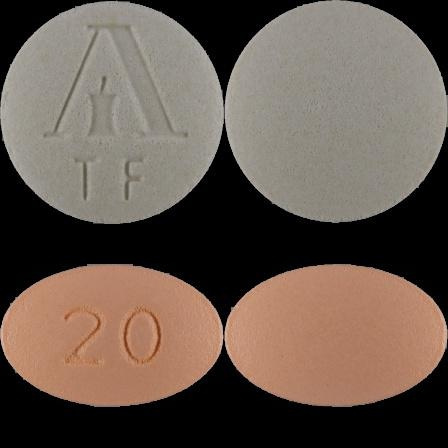0456-0461: (0, 0, 224, 224)
